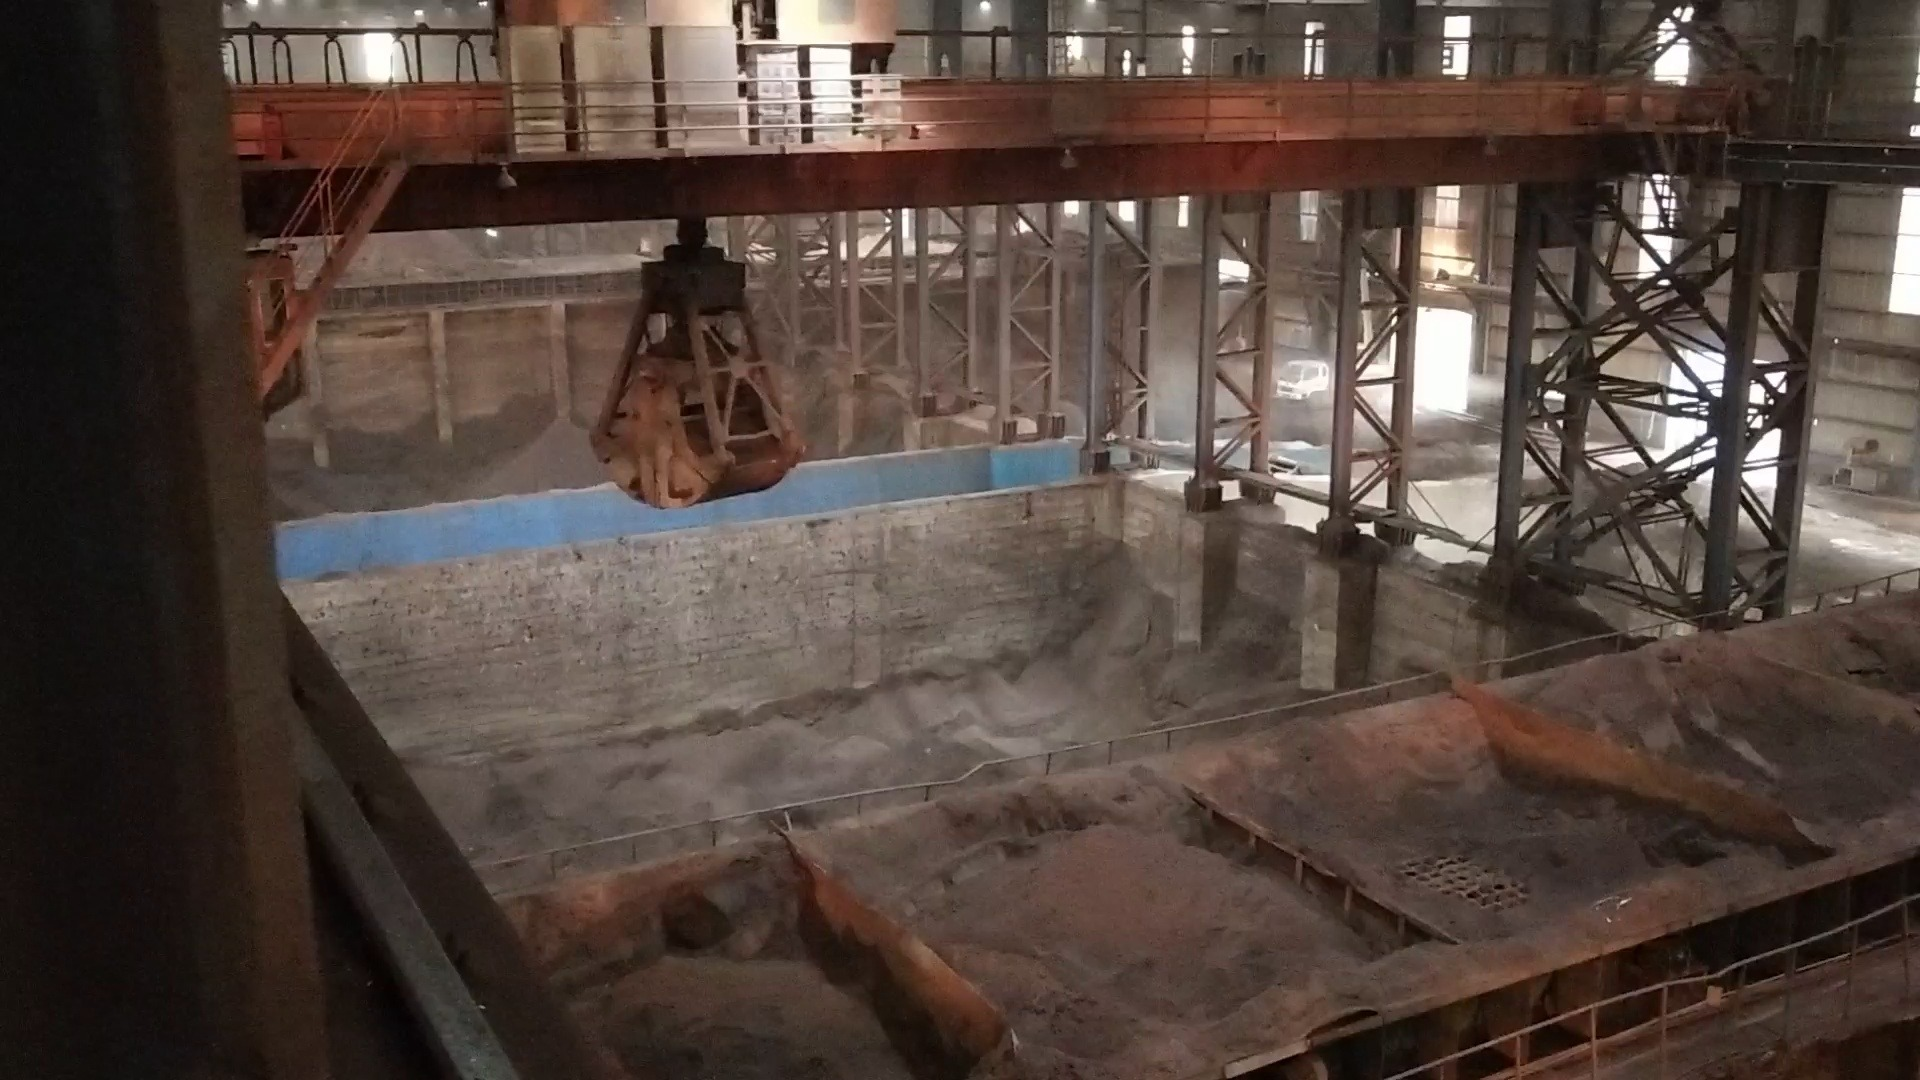dust: (1138, 315, 1513, 439)
grab: (580, 210, 808, 514)
